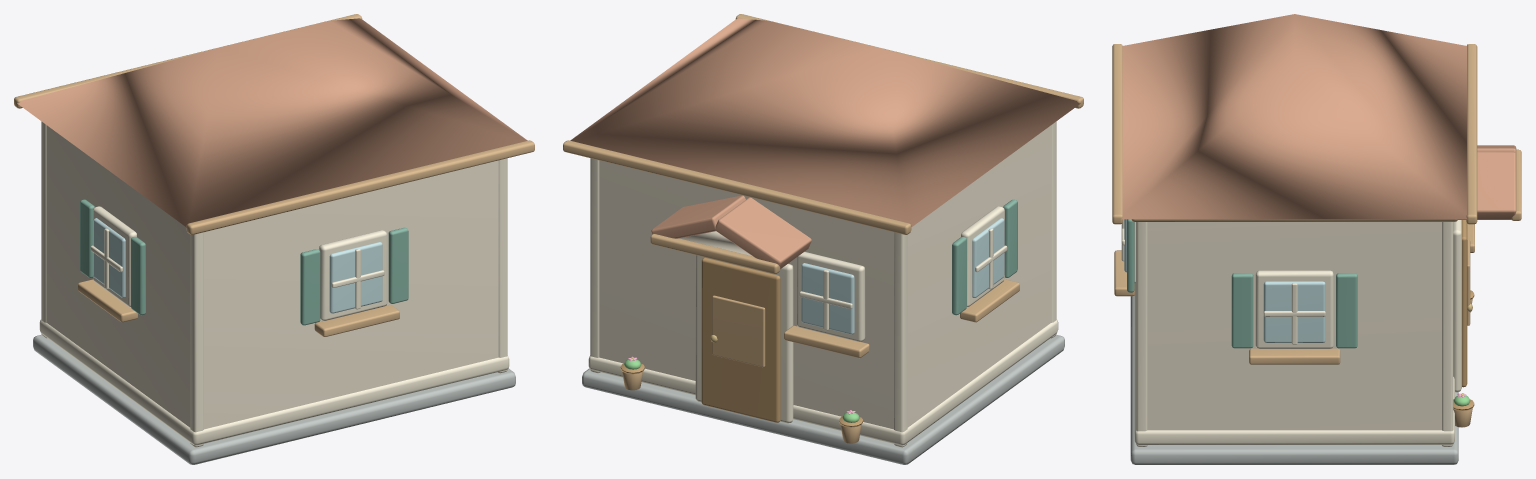
The model's file is cottage_8.glb.
3 views of the same model, side by side, from view 1: azimuth 30°, elevation 25°; view 2: azimuth 150°, elevation 25°; view 3: azimuth 270°, elevation 25° (orthographic). The views are drawn at different scales.
Bounding box in the file's own units: 3.82 × 3.49 × 3.77.
